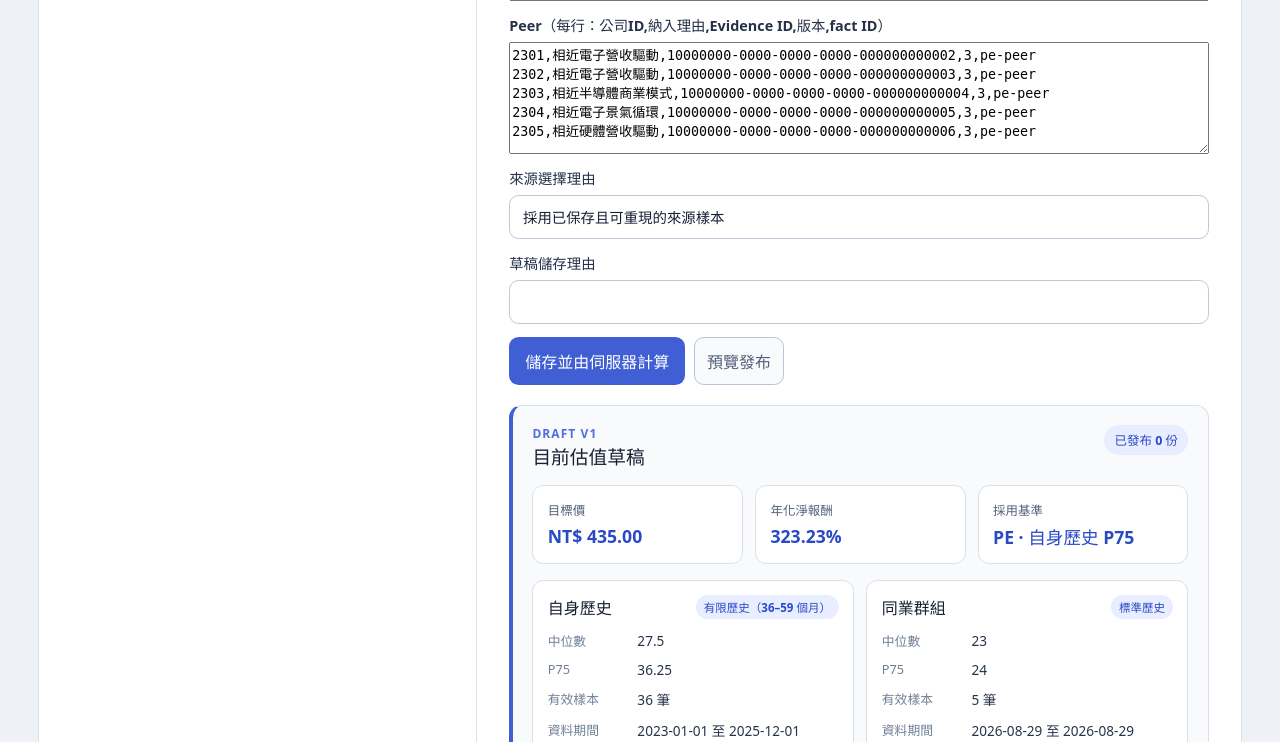
Test: ThesisRoutes › explains how to recalculate when the Cost Profile changed
(page scrolled)
Click the button "預覽發布": (739, 361) x1=694 y1=337 x2=784 y2=385
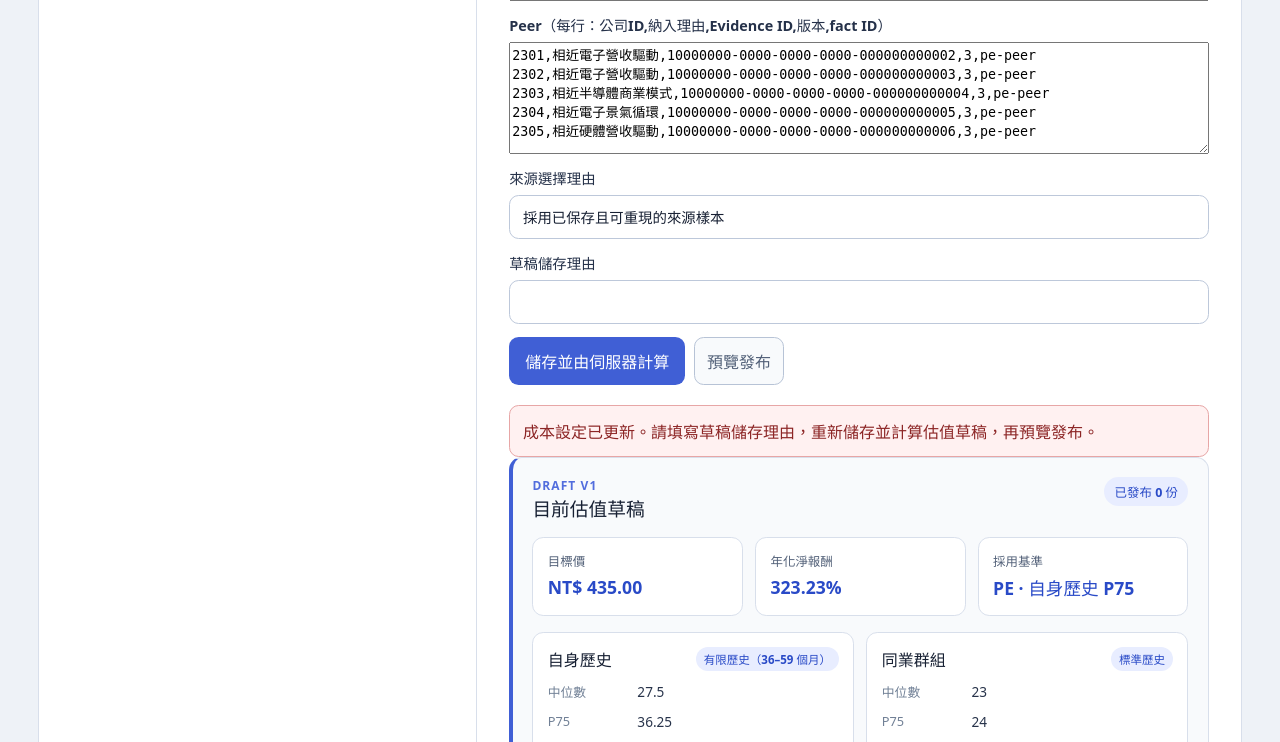
Expected: the message does not show "cost_profile_version_conflict", x1=509 y1=405 x2=1209 y2=457
Expected: the message shows "成本設定已更新", x1=523 y1=421 x2=1099 y2=443
Expected: the message shows "重新儲存並計算估值草稿", x1=523 y1=421 x2=1099 y2=443
